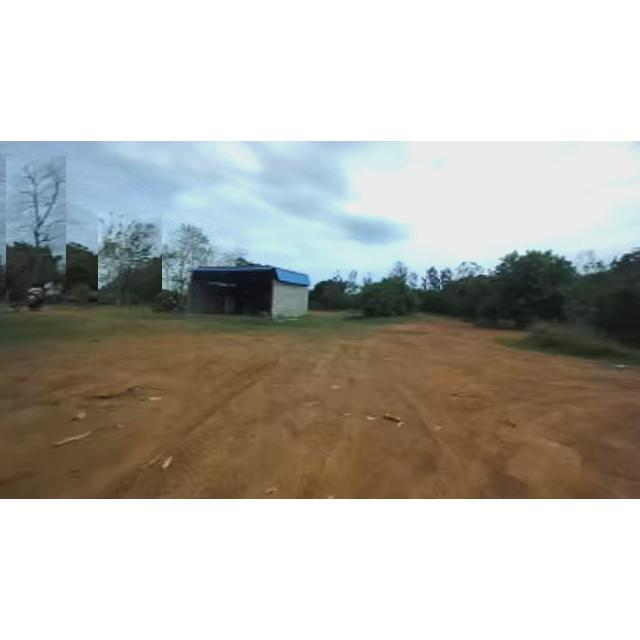direk: (497, 232, 588, 331), (6, 156, 66, 304), (98, 211, 162, 305), (164, 212, 224, 310), (354, 264, 418, 318), (452, 253, 496, 320), (426, 260, 440, 306)
